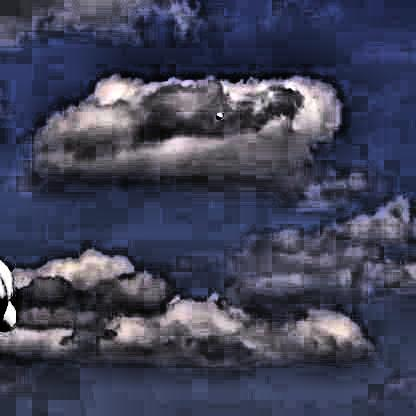golfball: (215, 110, 224, 121)
